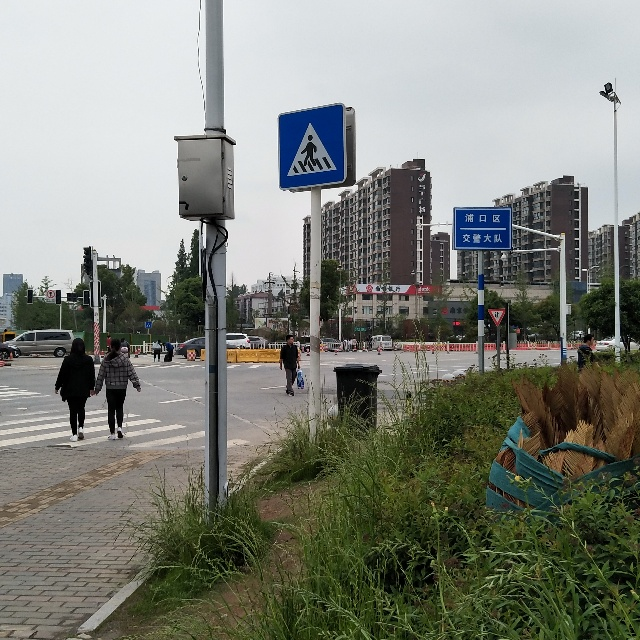crosswalk: (277, 104, 348, 190)
